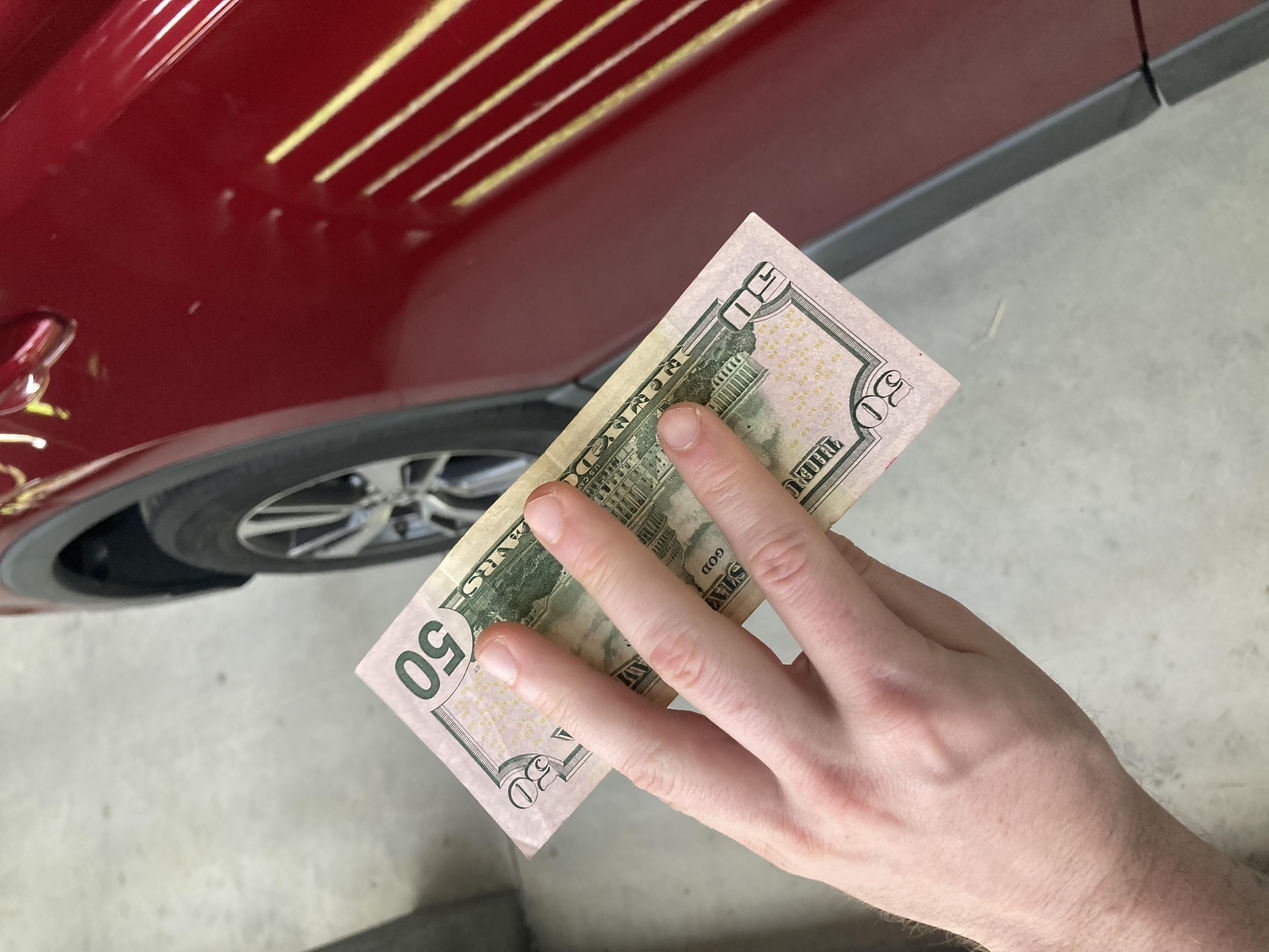fifty-back: (126, 263, 985, 724)
